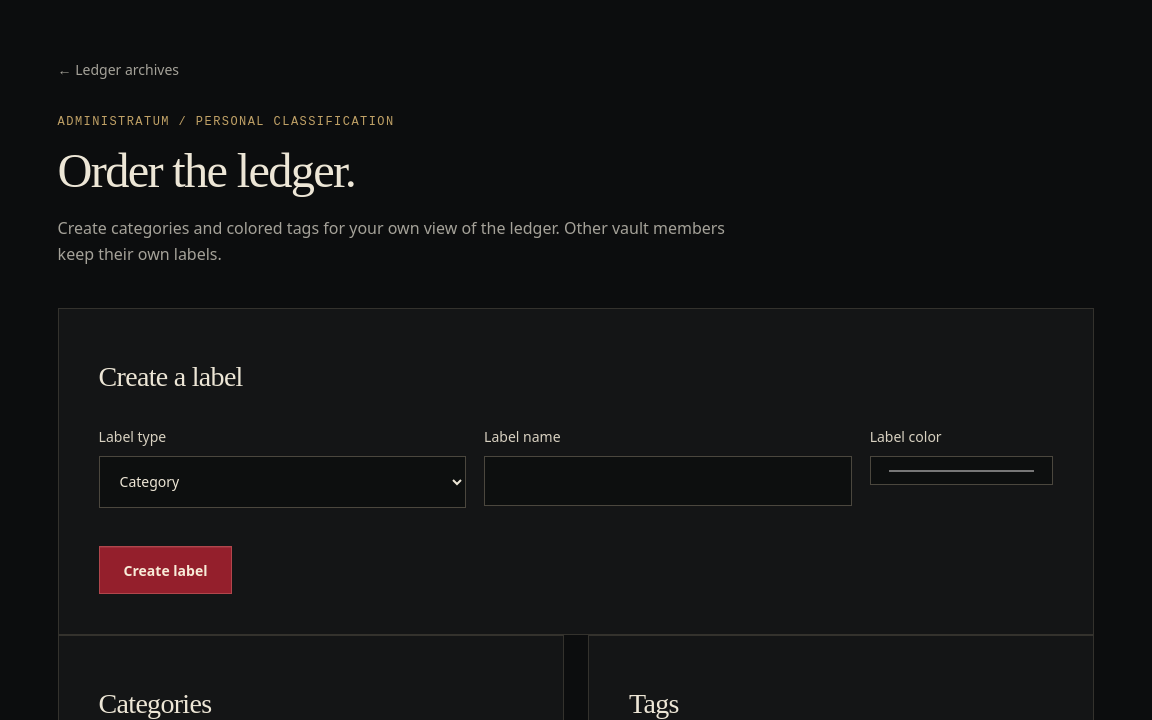
server validation preserves the edit draft
This screenshot has width=1152, height=720.
In the field labelled "Label name": (668,481) [484,456,852,506], type "Duplicate"
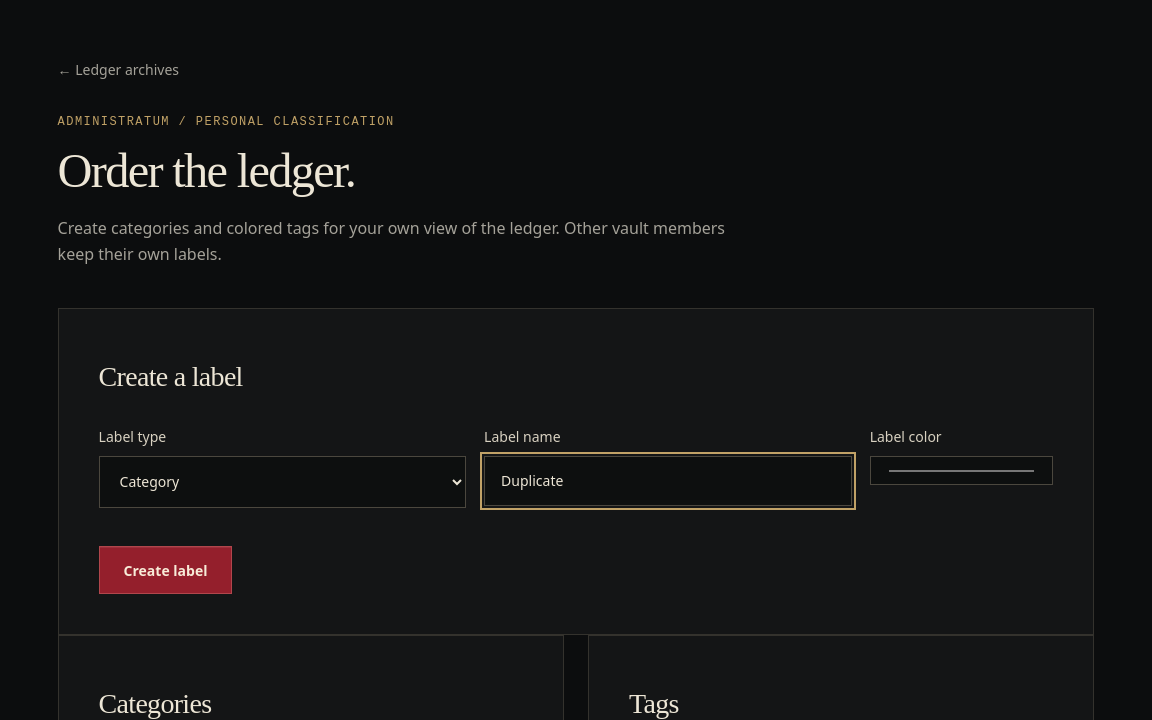
Click the button "Create label": (166,570) [99,546,232,594]
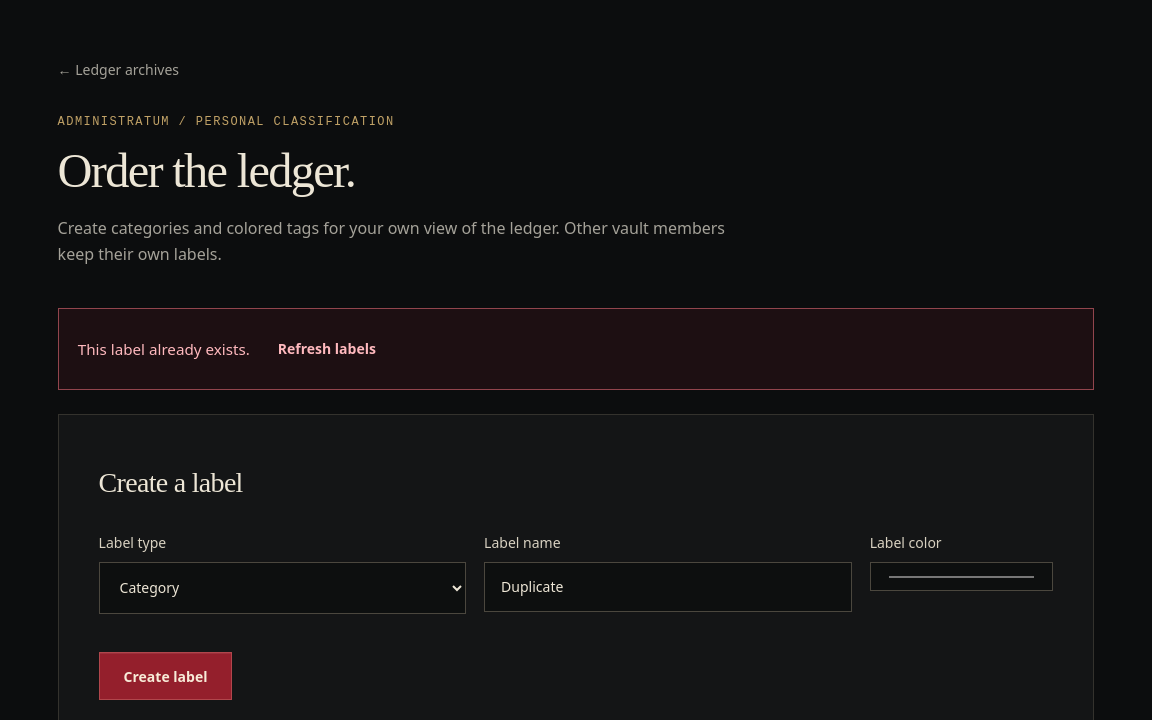
Result: the text "This label already exists." is shown at [78,338,250,358]
